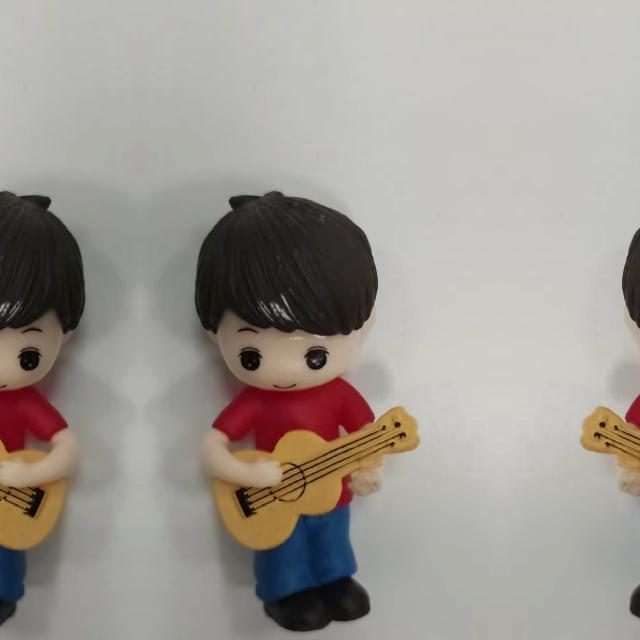man cloth: (214, 383, 380, 509), (0, 383, 66, 509), (619, 383, 640, 509)
man head: (190, 182, 380, 390), (0, 181, 89, 390), (620, 181, 640, 390)
trousers: (252, 498, 372, 634), (0, 498, 28, 634), (627, 498, 640, 634)
